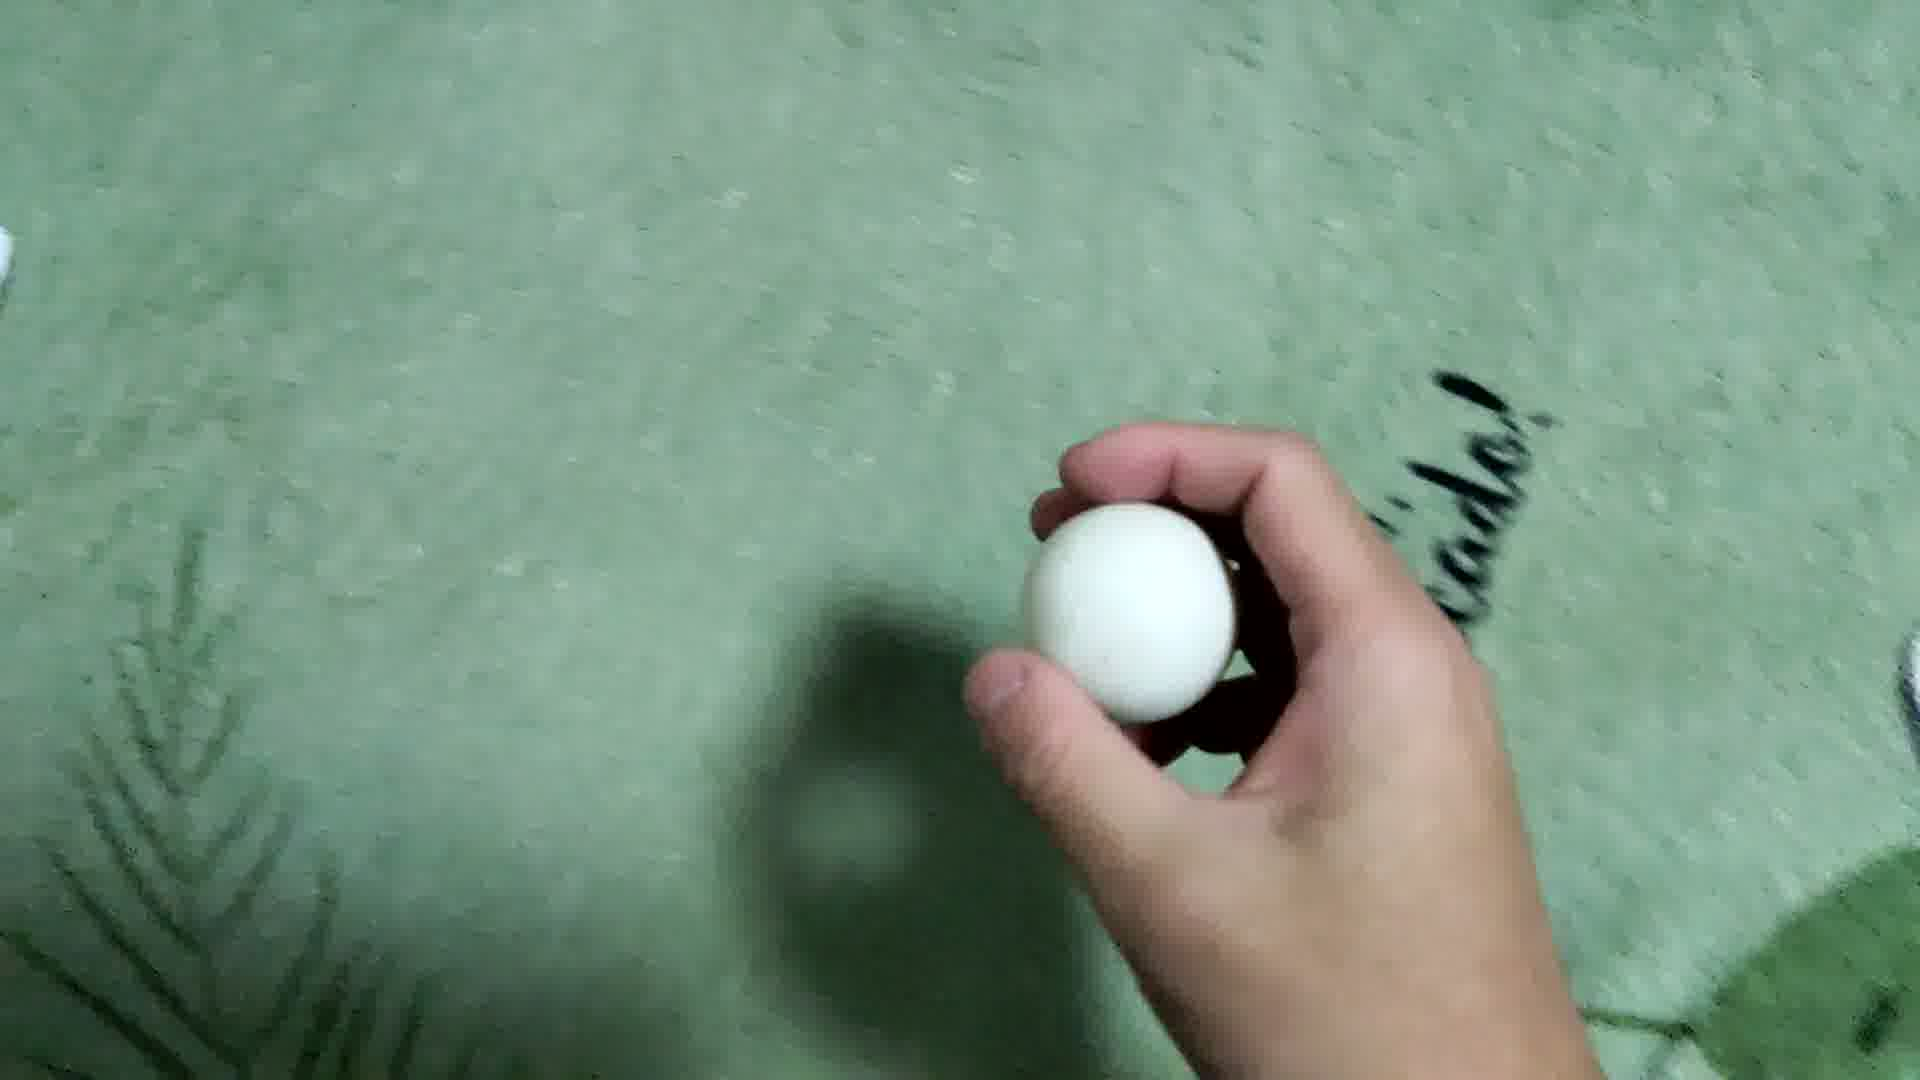Ball: (1027, 502, 1222, 721)
